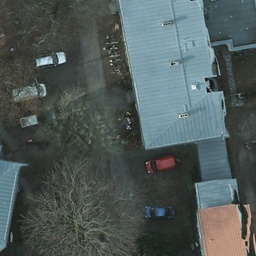car: (33, 47, 67, 73), (145, 153, 180, 171), (142, 203, 175, 220)
van: (11, 81, 47, 102)
